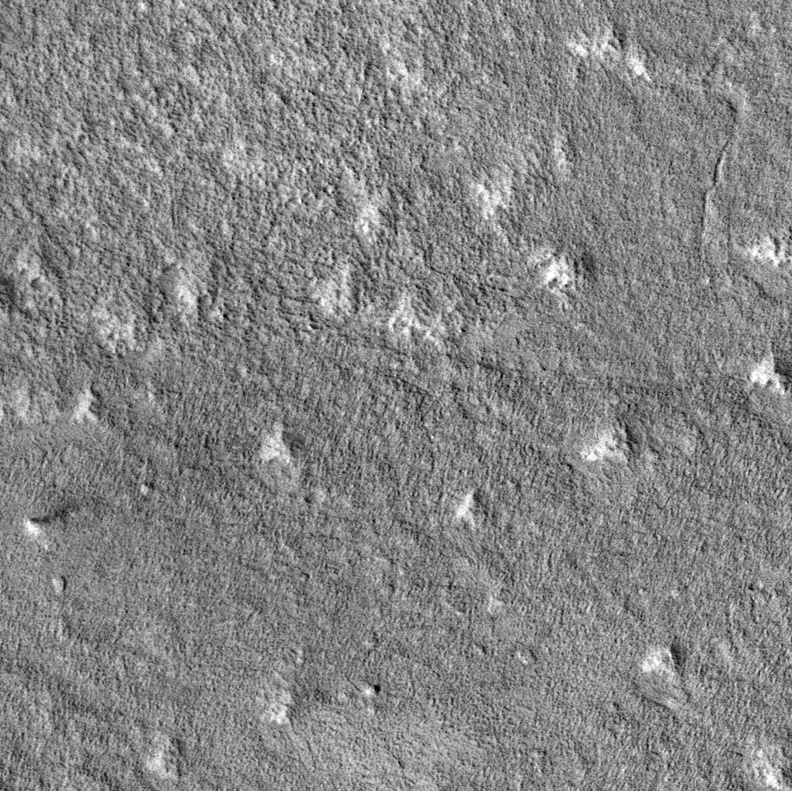dust_devil: (24, 508, 72, 539)
